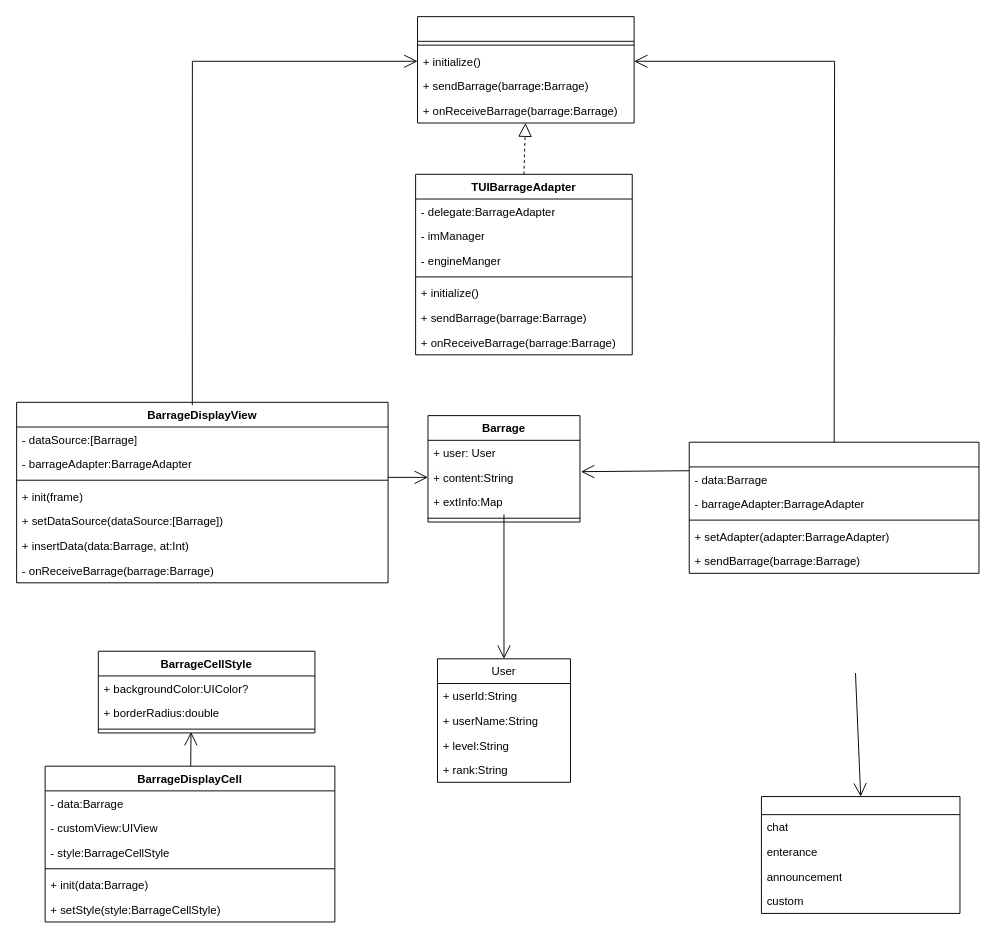
This 996x941 diagram has some shape labels left out. The shapes that lost their labels are listed below. From the top down, each one's box as (x1, y1, x2, y2) in pixels, then its label:
(417, 16, 634, 123): <<interface>>BarrageAdapter
(688, 441, 979, 573): BarrageSendView
(760, 796, 960, 913): <<enum>>BarrageType
